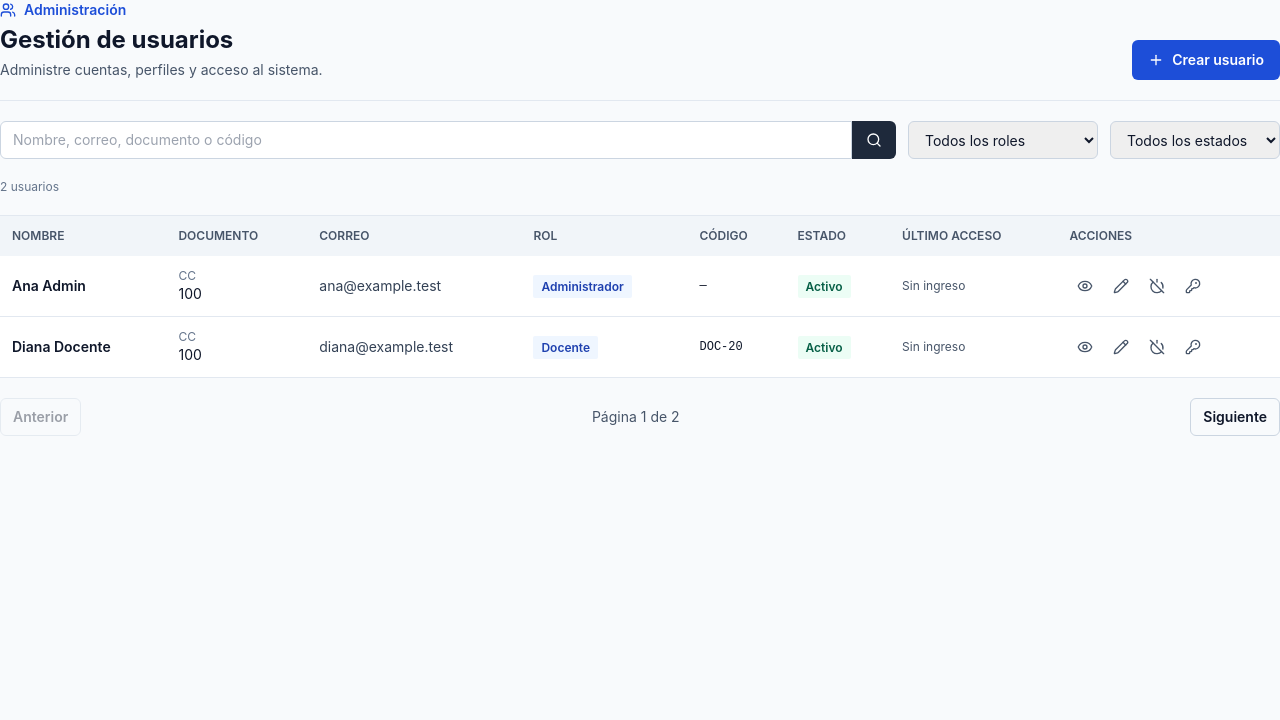
Test: listado administrativo de usuarios › abre la confirmación de desactivación
Click the button named "Desactivar usuario" in the row of "Administrador" at (1157, 286), box x1=1141 y1=270 x2=1173 y2=302
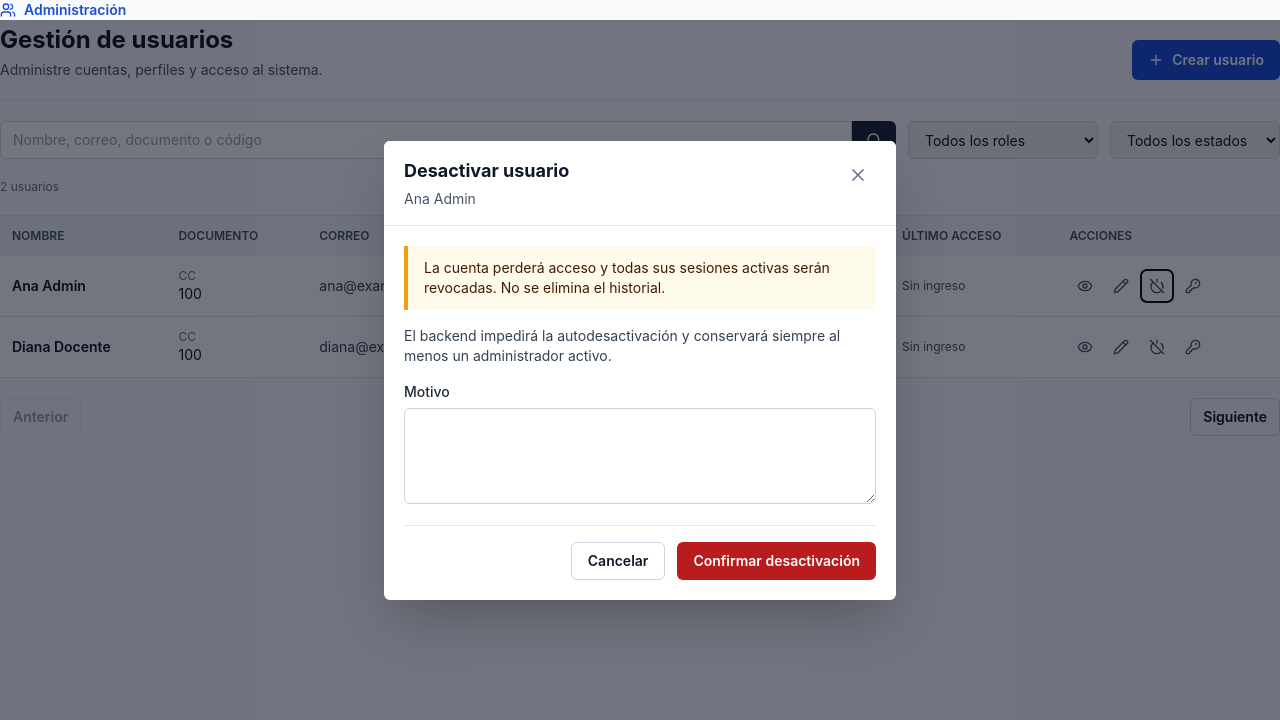
Result: the heading "Desactivar usuario" is shown at x1=404 y1=156 x2=569 y2=184
Result: the text "sesiones activas serán revocadas" is shown at x1=424 y1=258 x2=830 y2=296
